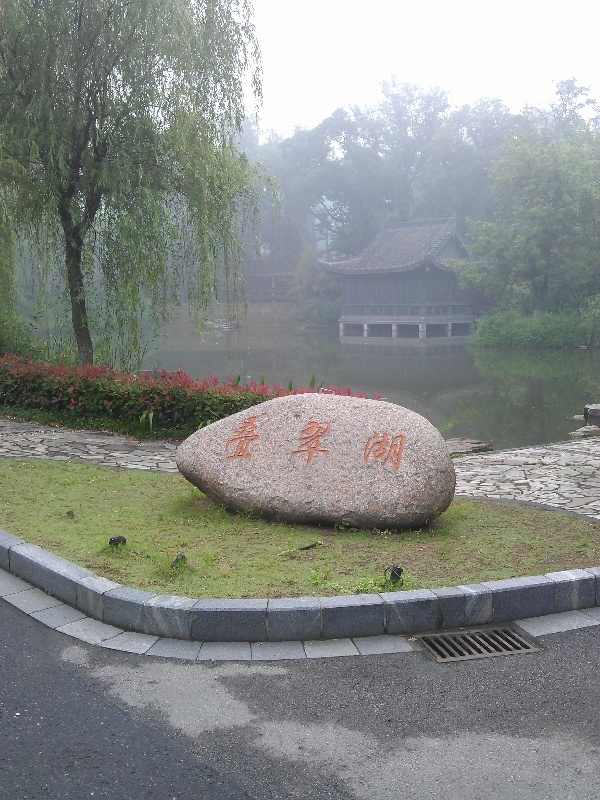text: (241, 413, 256, 477), (257, 413, 272, 477), (273, 413, 288, 477), (289, 413, 304, 477), (305, 413, 320, 477), (321, 413, 336, 477), (337, 413, 352, 477), (353, 413, 368, 477), (369, 413, 384, 477), (385, 413, 400, 477), (226, 413, 240, 477), (401, 413, 407, 477)
